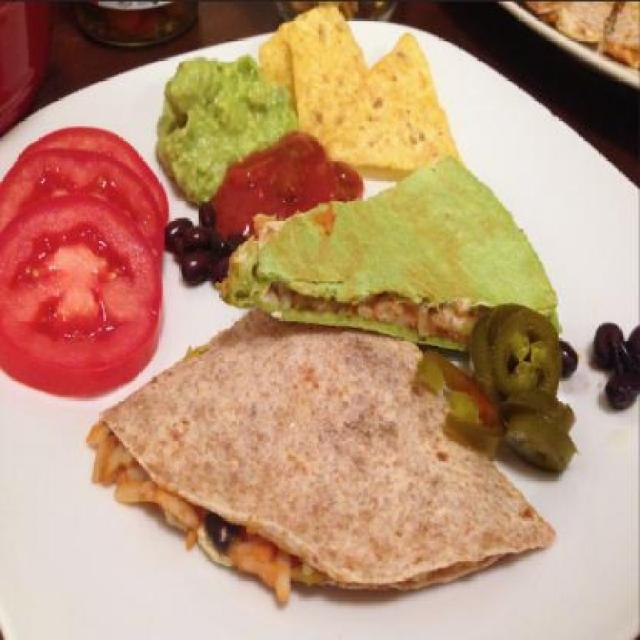chicken quesadilla: (67, 308, 561, 610)
guacamole: (151, 42, 292, 208)
nachos: (259, 8, 456, 177)
